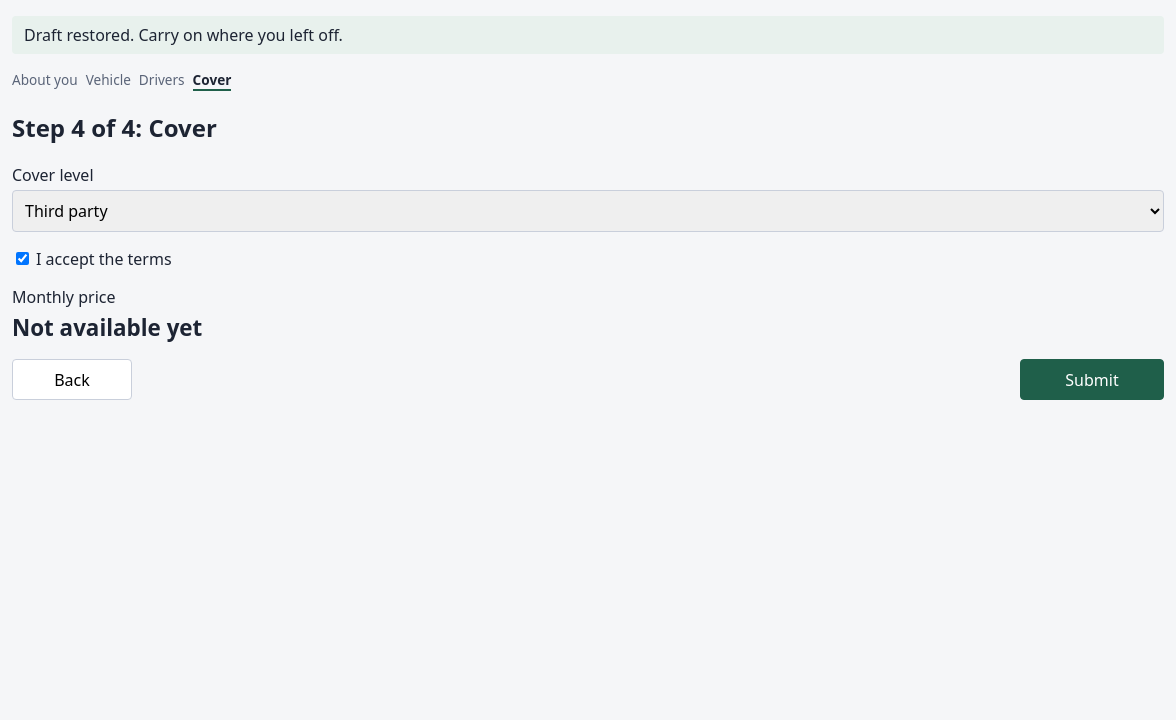
Test: submitting › walks back to the first invalid step when a draft left an earlier step incomplete
Click the button "Submit" at (1092, 380), box [1020,359,1164,400]
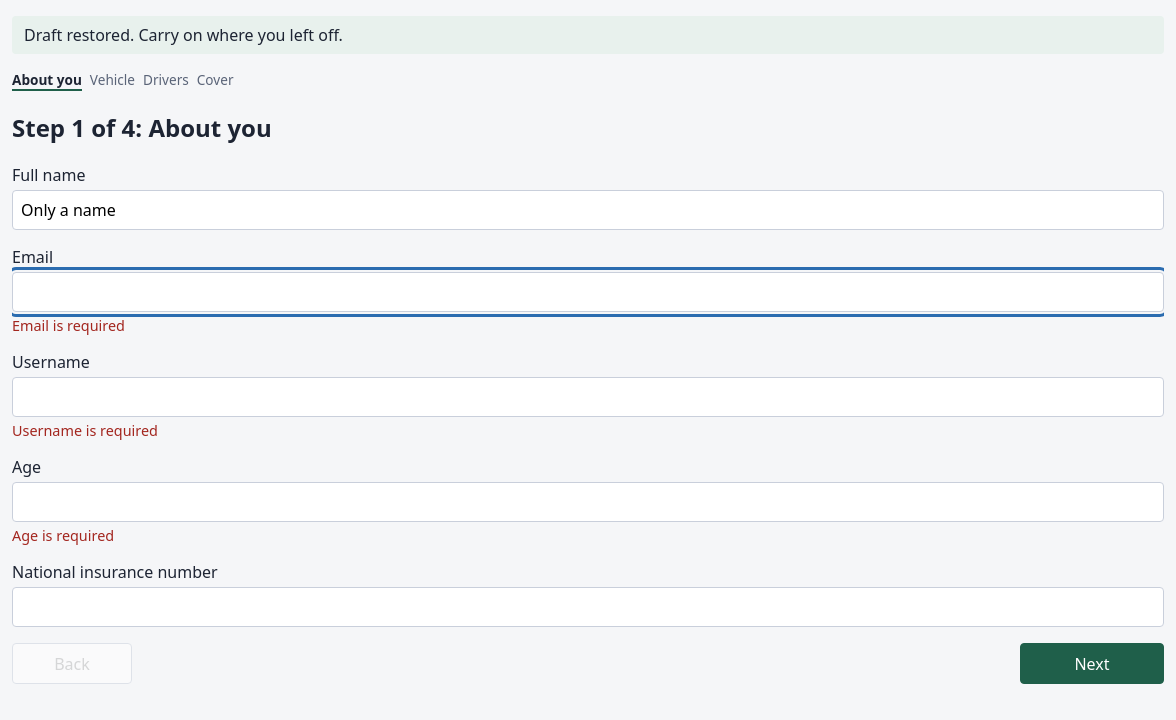
Expected: the heading shows "Step 1 of 4", [12,111,272,144]
